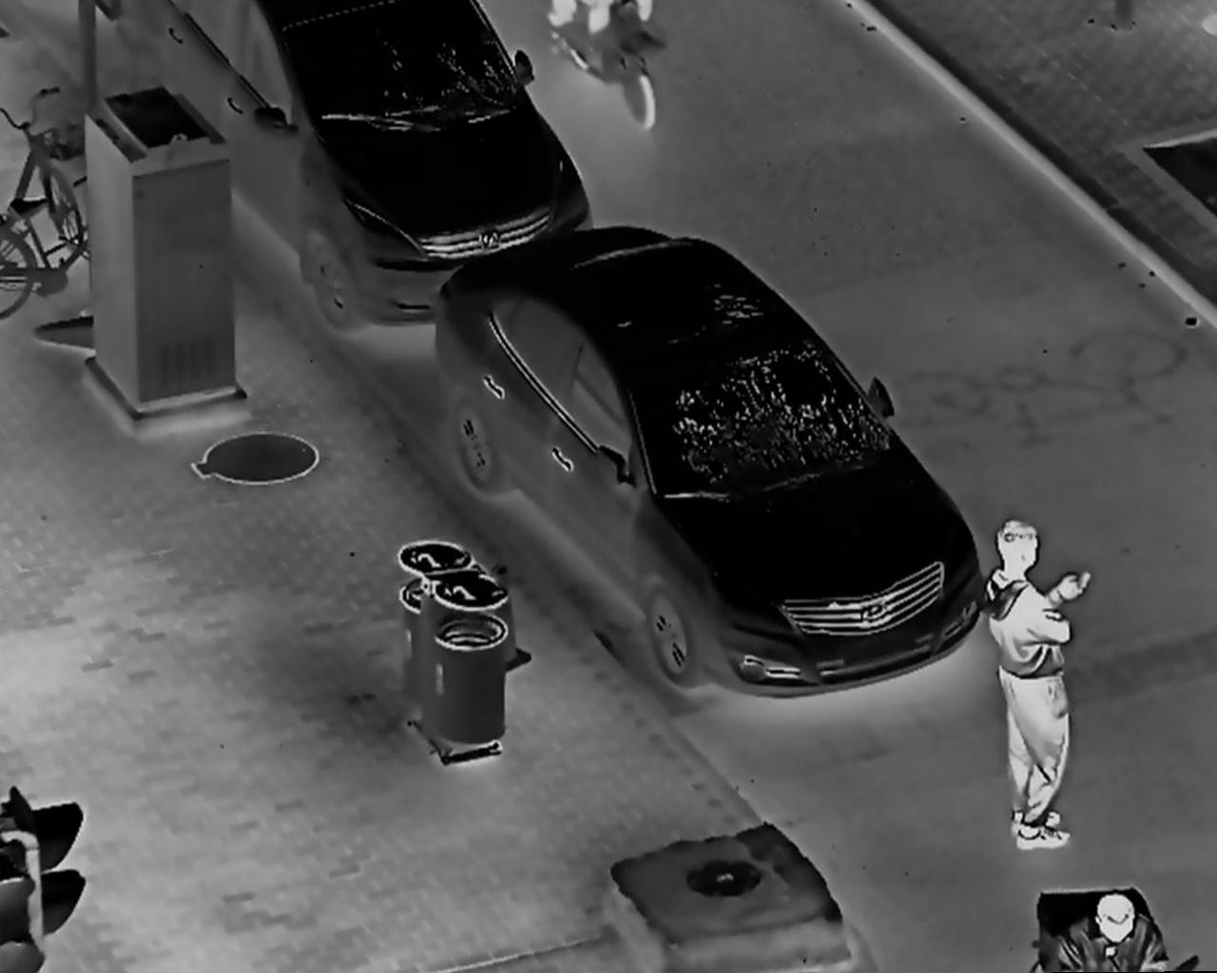person: (967, 503, 1092, 857), (1035, 888, 1168, 973)
